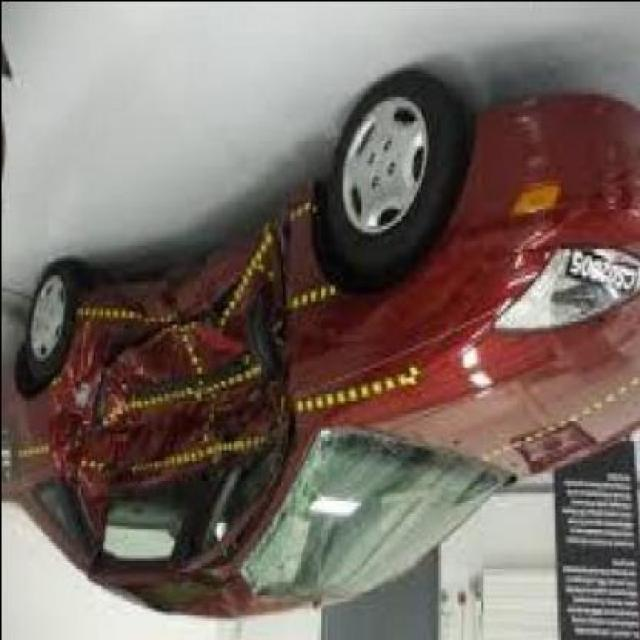damage: (40, 174, 335, 613)
